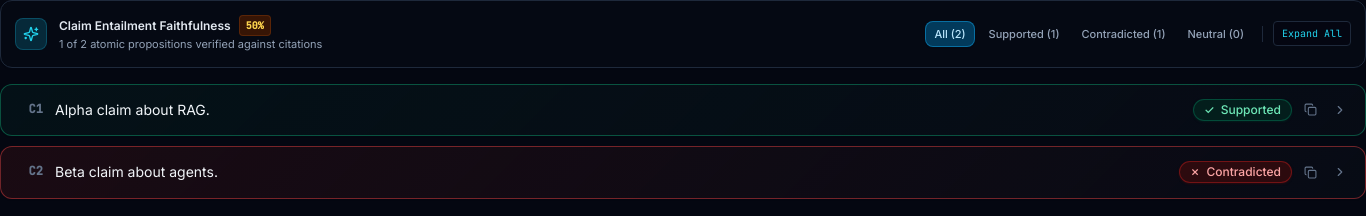
ClaimInspector › copies the claim assertion via the clipboard helper
Click the button titled "Copy claim assertion" in the row of "Alpha claim about RAG." at point(1310, 110), box [1300,99,1321,120]
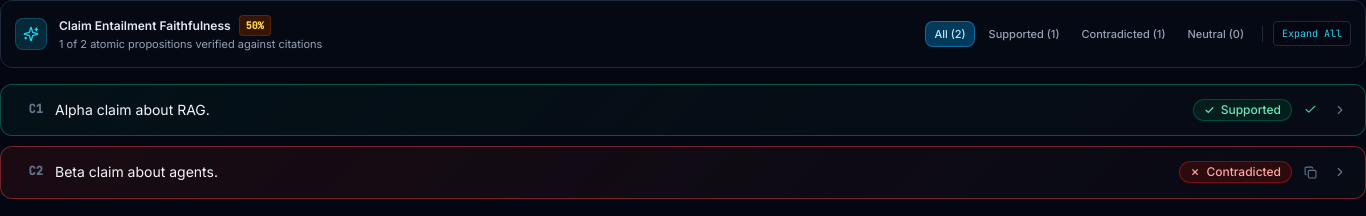
Expected: the icon with class "lucide-check" is shown, [1304,103,1317,116]
